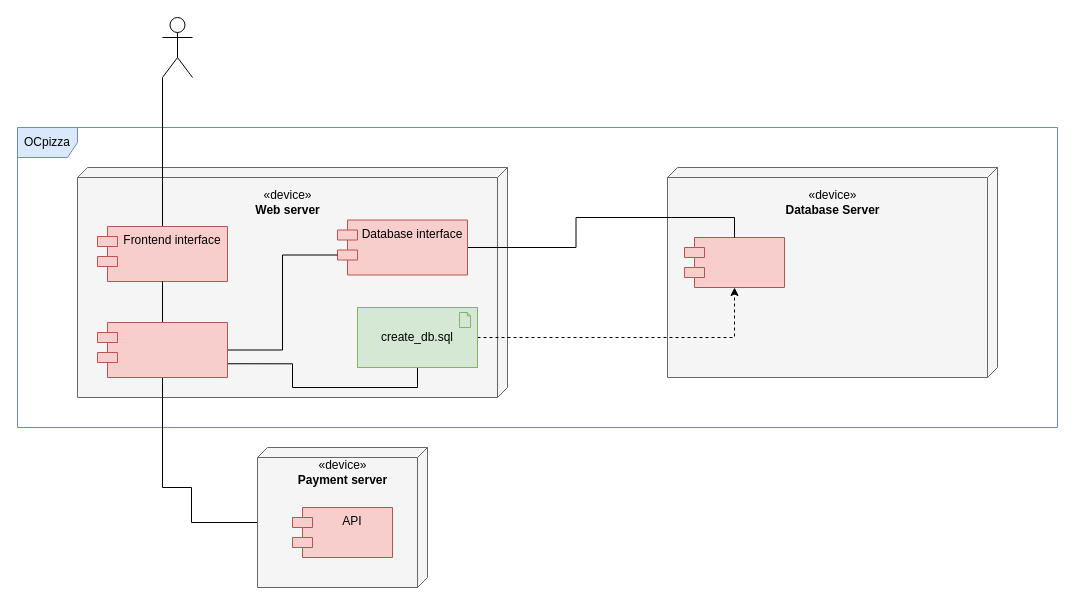
This 1075x605 diagram has some shape labels left out. The centre of each missing label's shape, as x and y in pixels:
Backend: (162,350)
MySQL Database: (734,262)
User: (177,47)
